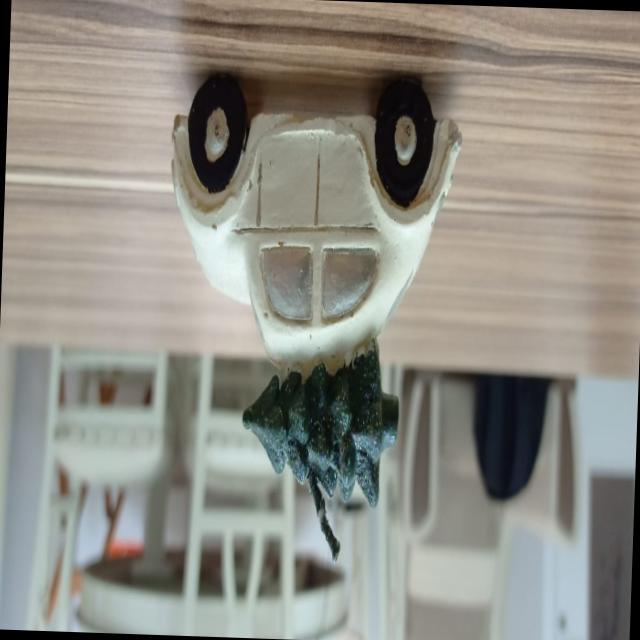car: (143, 78, 460, 368)
